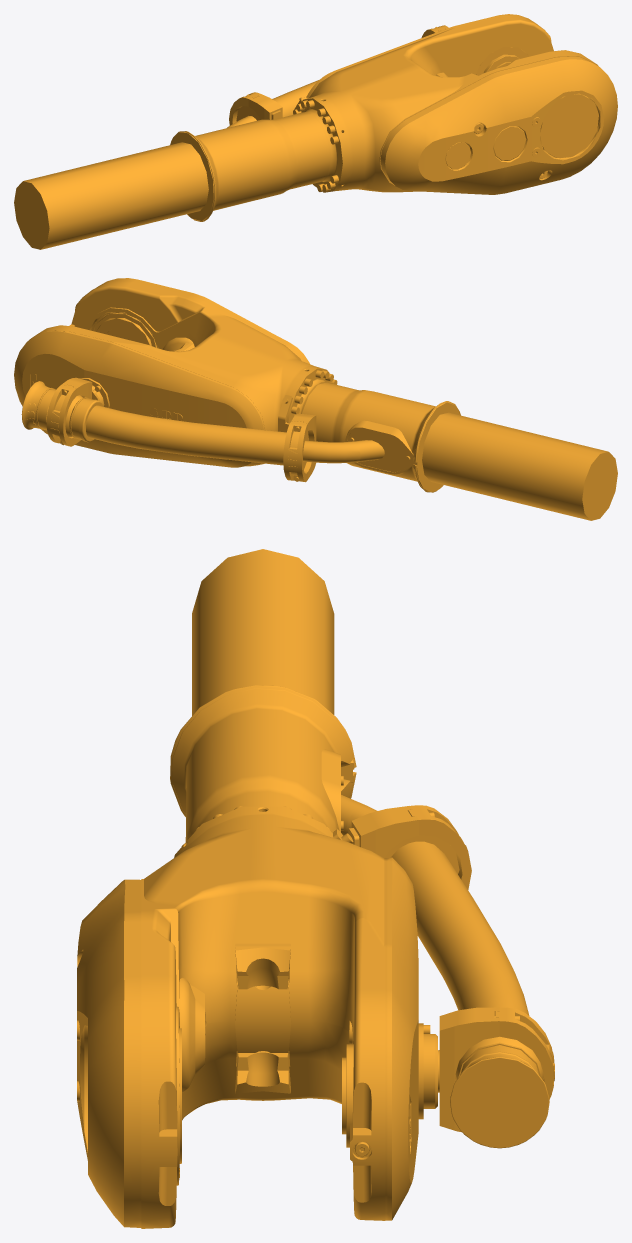
The model's file is ABBIRB6740_260_300Link4.dae.
The picture shows the model from 3 angles, top to bottom: view 1: azimuth 30°, elevation 25°; view 2: azimuth 150°, elevation 25°; view 3: azimuth 270°, elevation 25°; orthographic projection. The views are drawn at different scales.
Visible parts, largest first — view 1: Link4.007; view 2: Link4.007; view 3: Link4.007.
Boxes of the visible parts, x1=… form: Link4.007: x1=14, y1=14, x2=617, y2=249; Link4.007: x1=14, y1=278, x2=617, y2=520; Link4.007: x1=77, y1=549, x2=554, y2=1228.
Bounding box in the file's own units: 1.52 × 0.5715 × 0.318.
